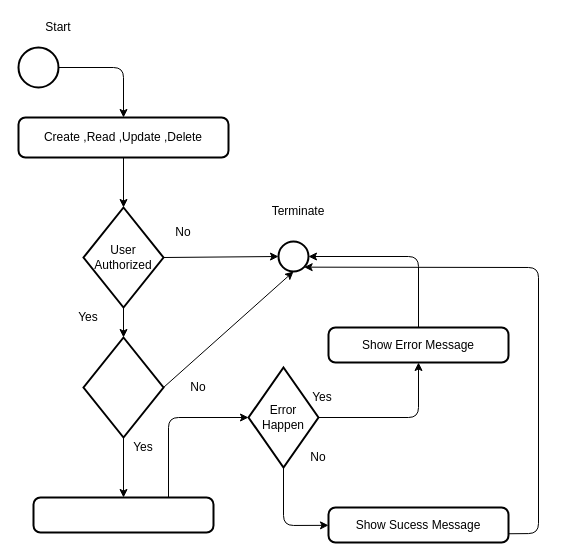
This 564x560 diagram has some shape labels left out. Here are the shapes that lost their labels. From the top down, the centre of each, then its label:
(x=123, y=387): Data Valid
(x=123, y=514): Proceed Data / Store DB
